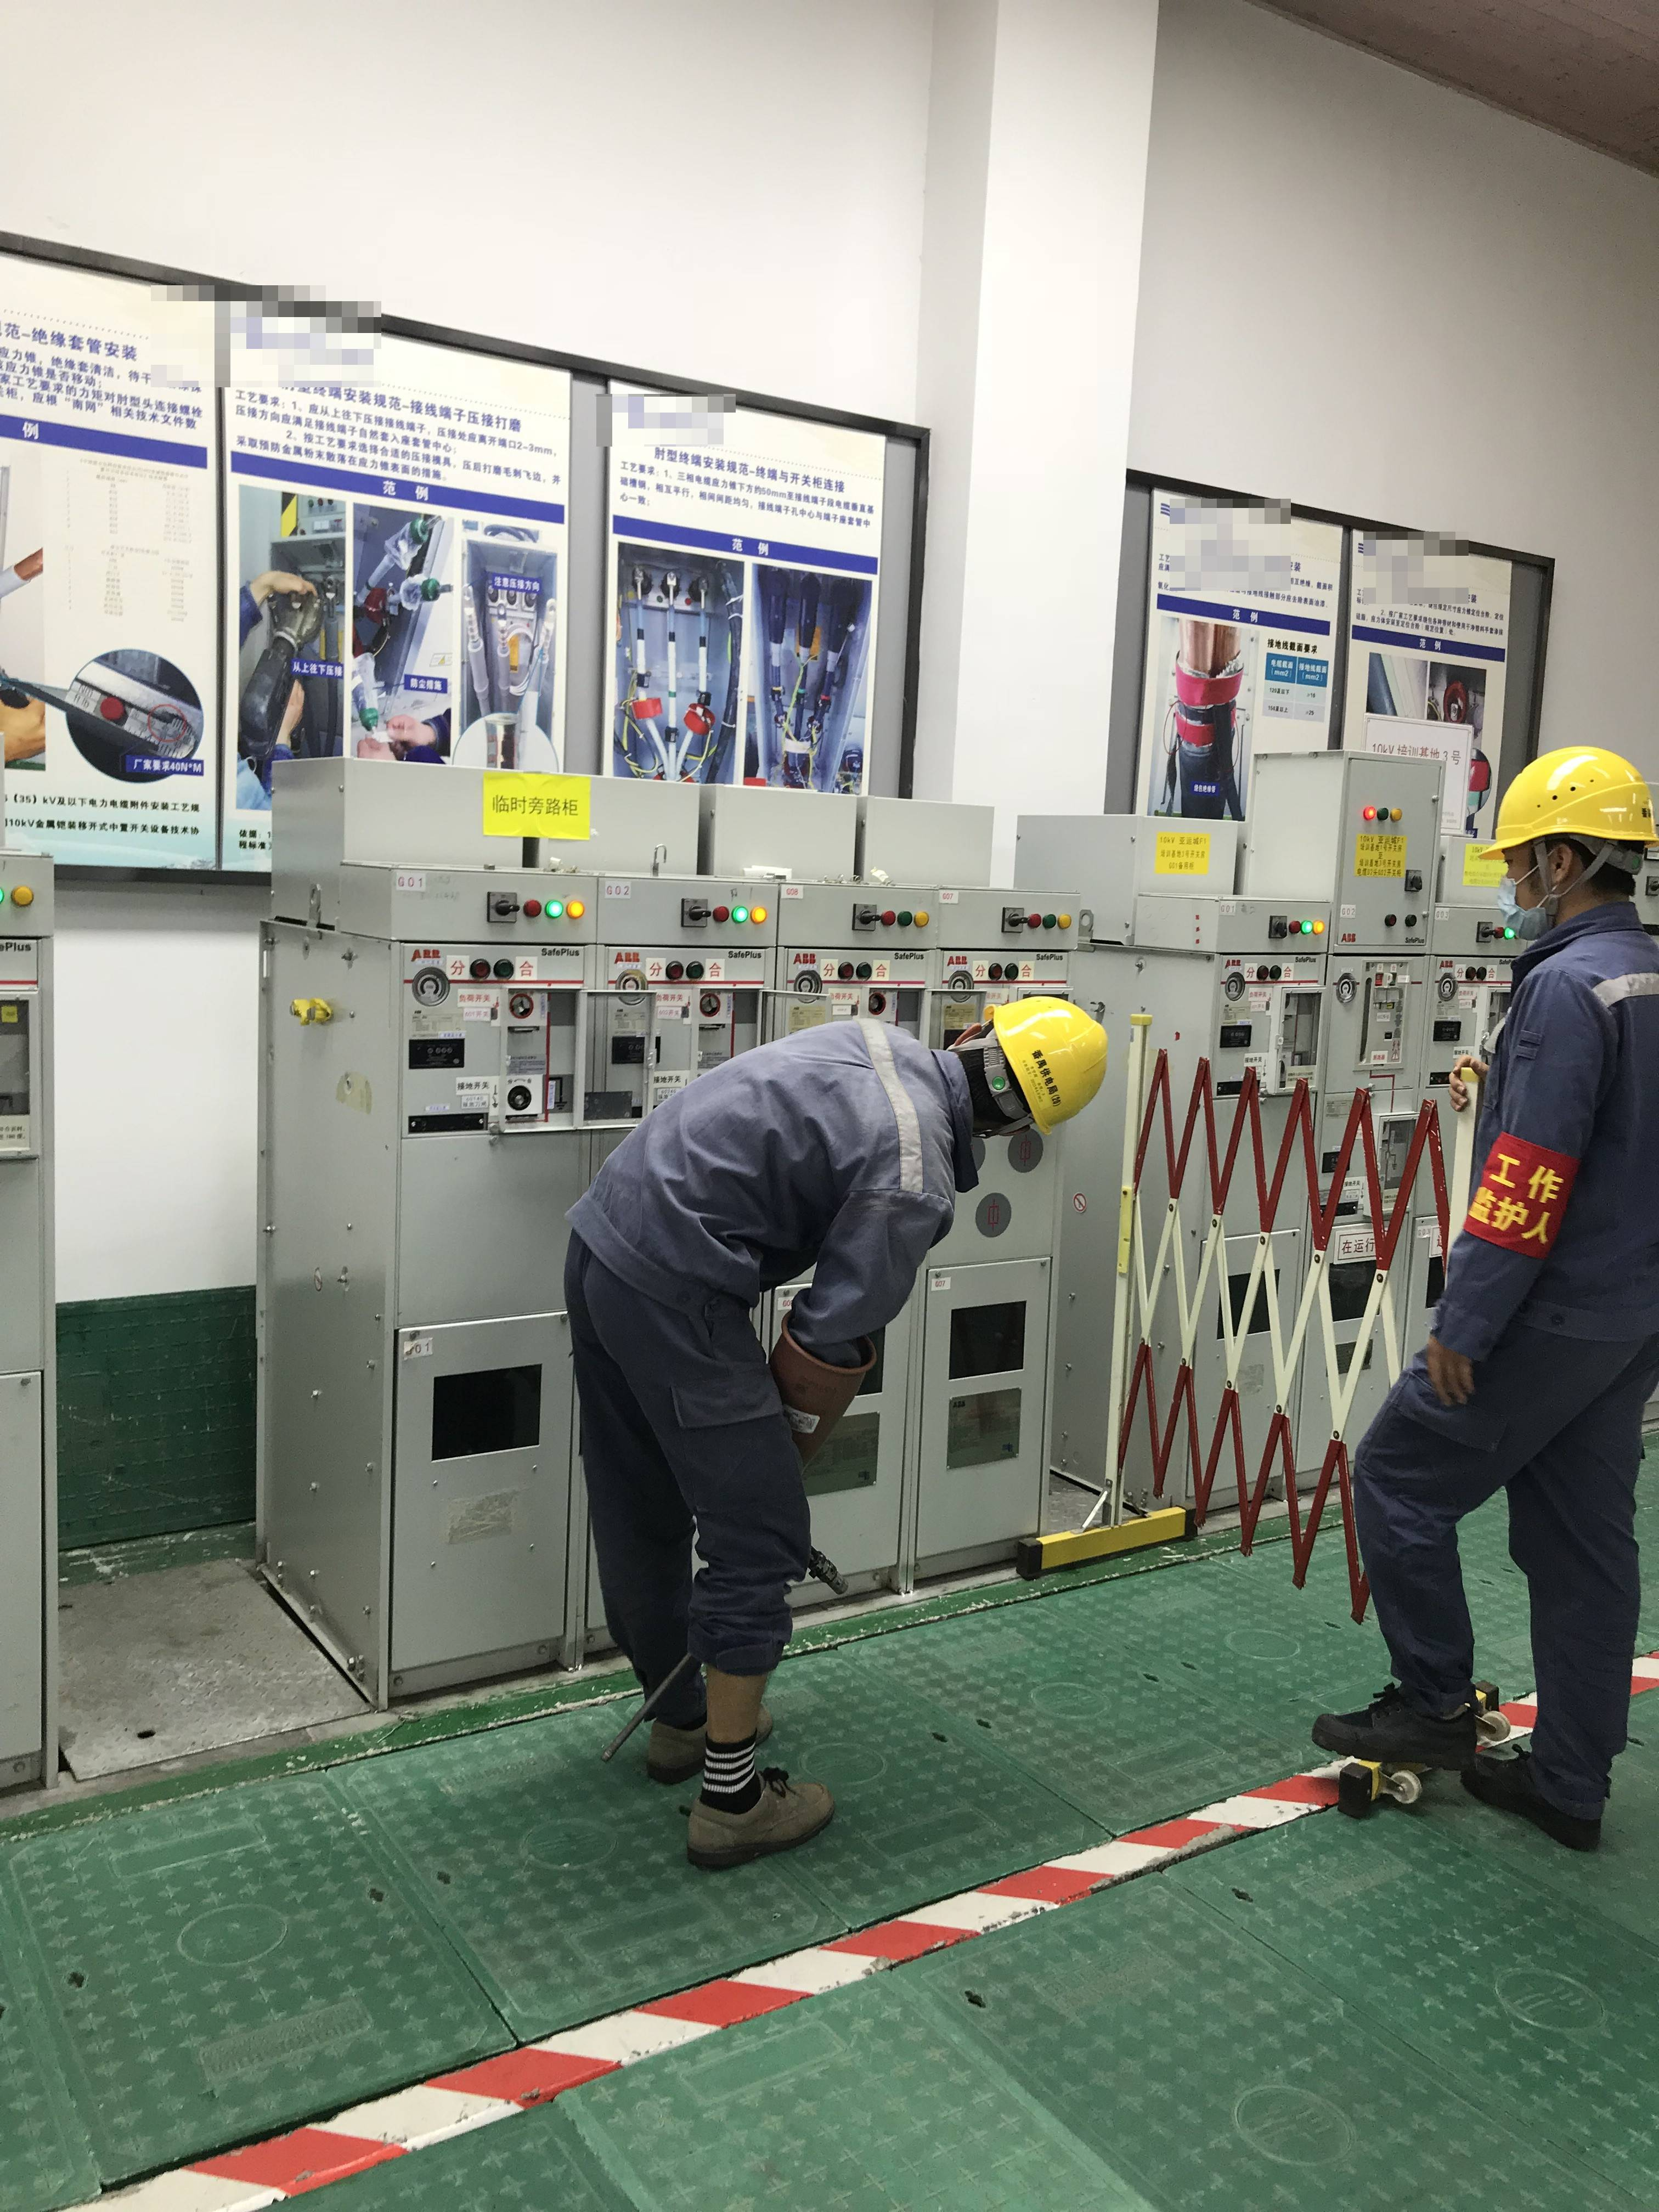downsuit: (1347, 1359, 1656, 1773), (563, 1270, 819, 1738)
upsuit: (561, 1012, 974, 1341), (1429, 911, 1659, 1341)
wrongbottom: (697, 1608, 791, 1777)
